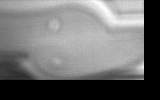cell: (45, 17, 63, 34), (50, 56, 65, 68)
